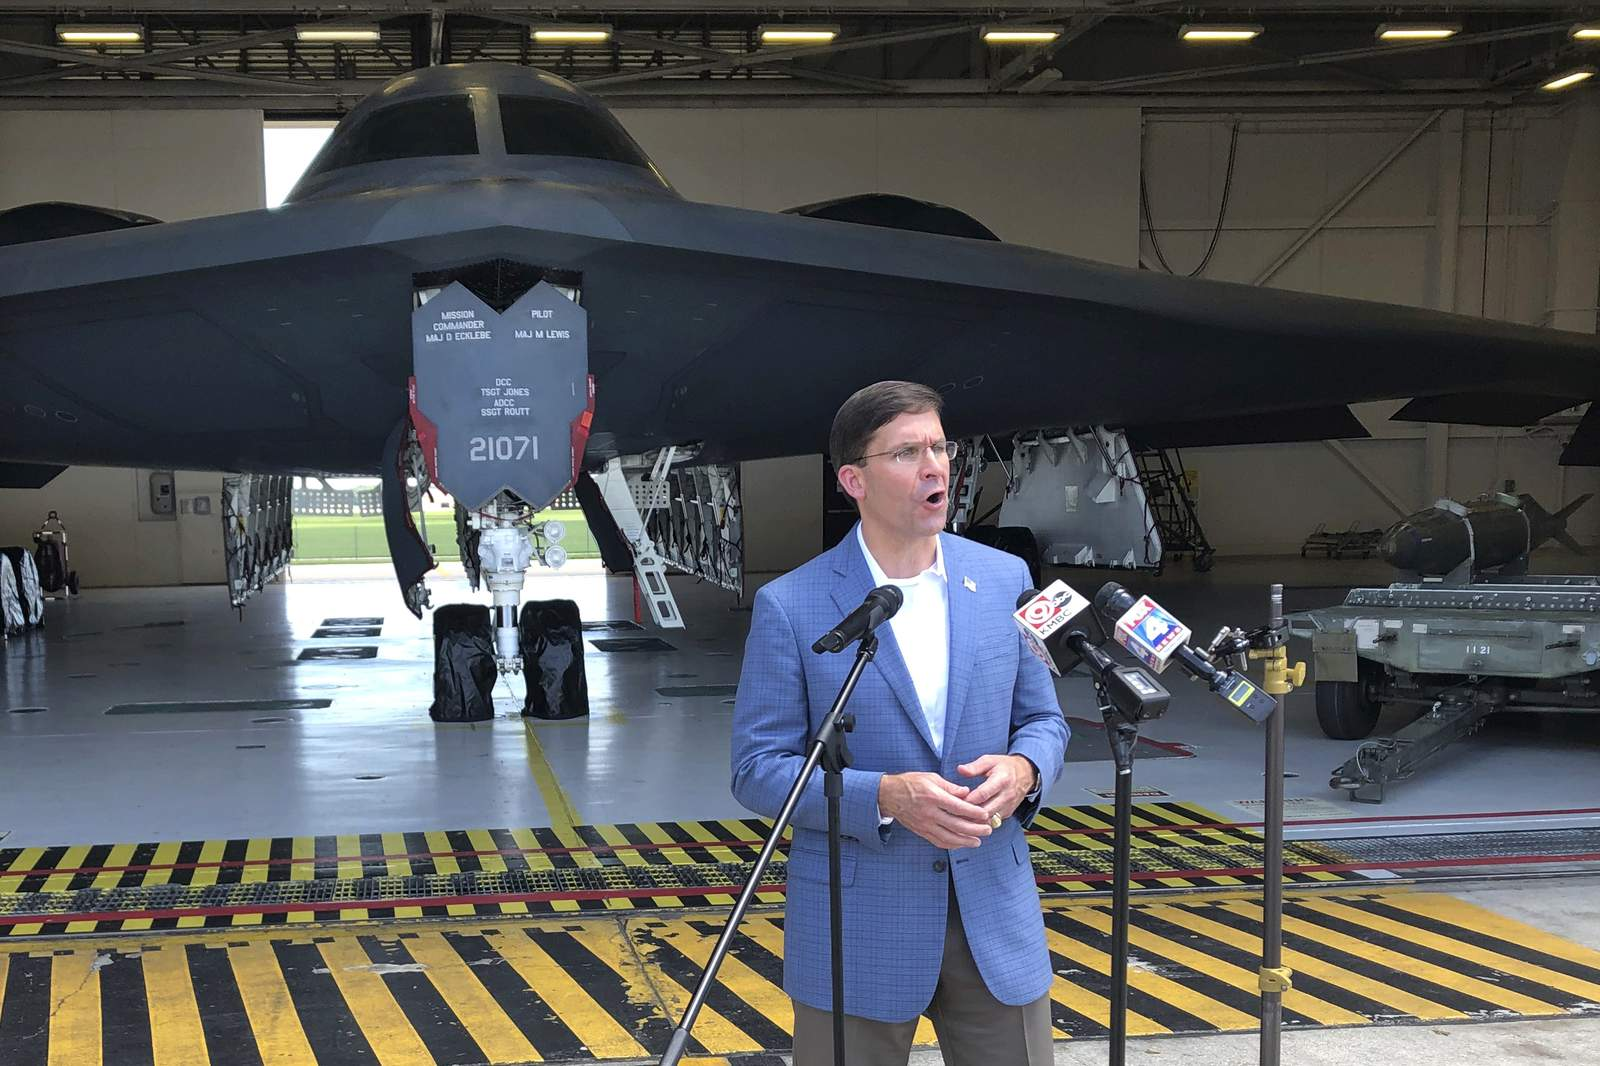B2: (1, 62, 1600, 721)
